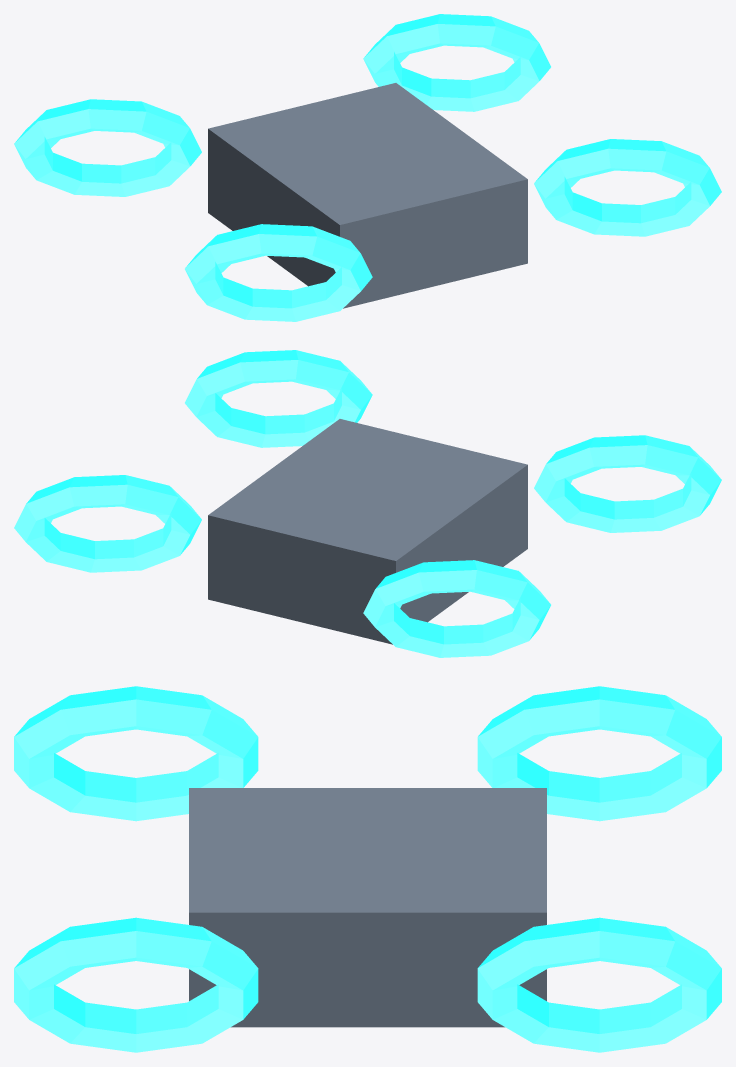
File: drone.glb
The picture shows the model from 3 angles, top to bottom: view 1: azimuth 30°, elevation 25°; view 2: azimuth 150°, elevation 25°; view 3: azimuth 270°, elevation 25°; orthographic projection. The views are drawn at different scales.
Size of the model in its own units: 0.764 by 0.1209 by 0.6721.
